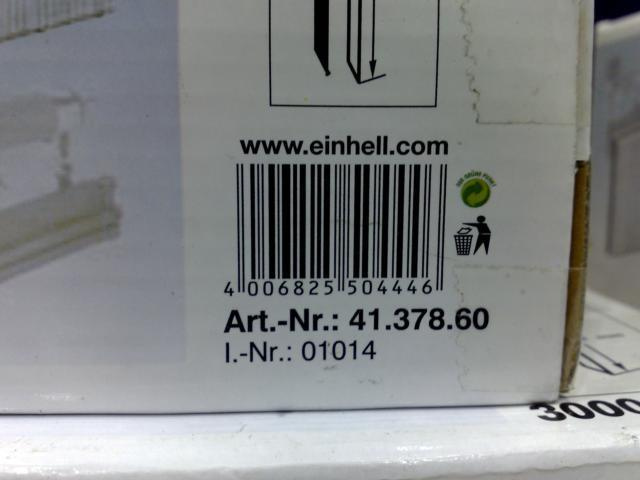Barcode: (215, 157, 450, 303)
